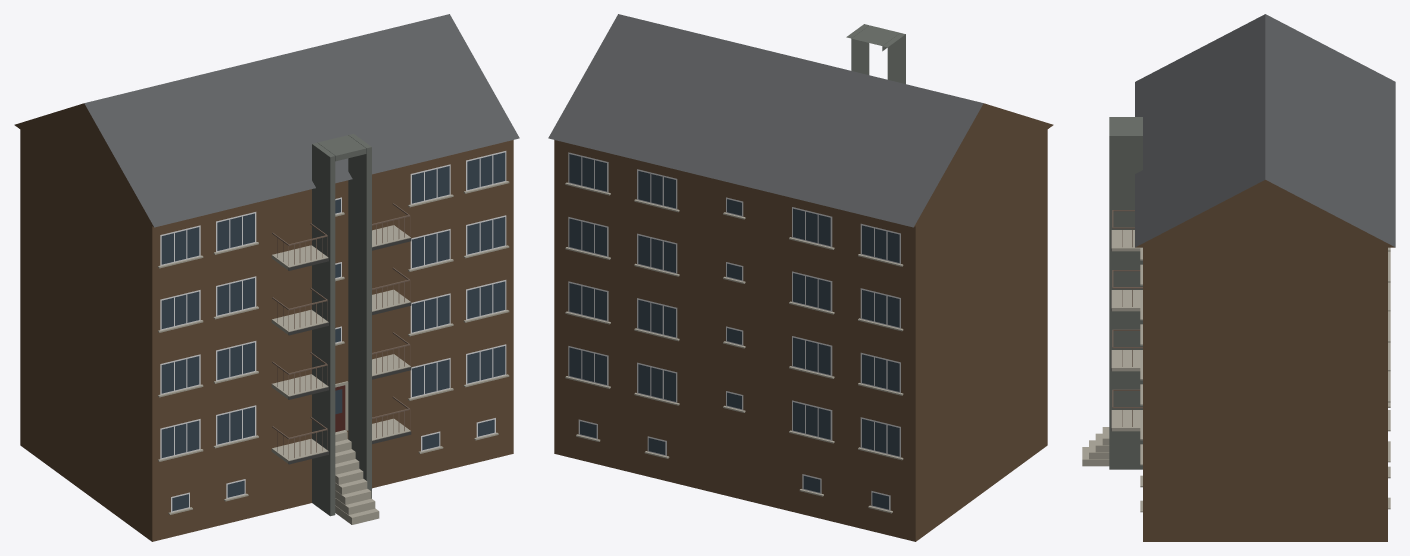
The model's file is nw-steel-stack-portiek__brick-steel__5__gable__long__solid.glb.
3 views of the same model, side by side, from view 1: azimuth 30°, elevation 25°; view 2: azimuth 150°, elevation 25°; view 3: azimuth 270°, elevation 25° (orthographic). The views are drawn at different scales.
Parts seen in each view (by area): view 1: nw-steel-stack-portiek__brick-steel__5__gable__long__solid; view 2: nw-steel-stack-portiek__brick-steel__5__gable__long__solid; view 3: nw-steel-stack-portiek__brick-steel__5__gable__long__solid.
Part boxes in pixels (box(x1,y1,x2,y2)): nw-steel-stack-portiek__brick-steel__5__gable__long__solid: box(14, 14, 519, 541); nw-steel-stack-portiek__brick-steel__5__gable__long__solid: box(548, 14, 1053, 541); nw-steel-stack-portiek__brick-steel__5__gable__long__solid: box(1082, 14, 1395, 541).
Bounding box in the file's own units: 17.42 × 17.81 × 13.93.
